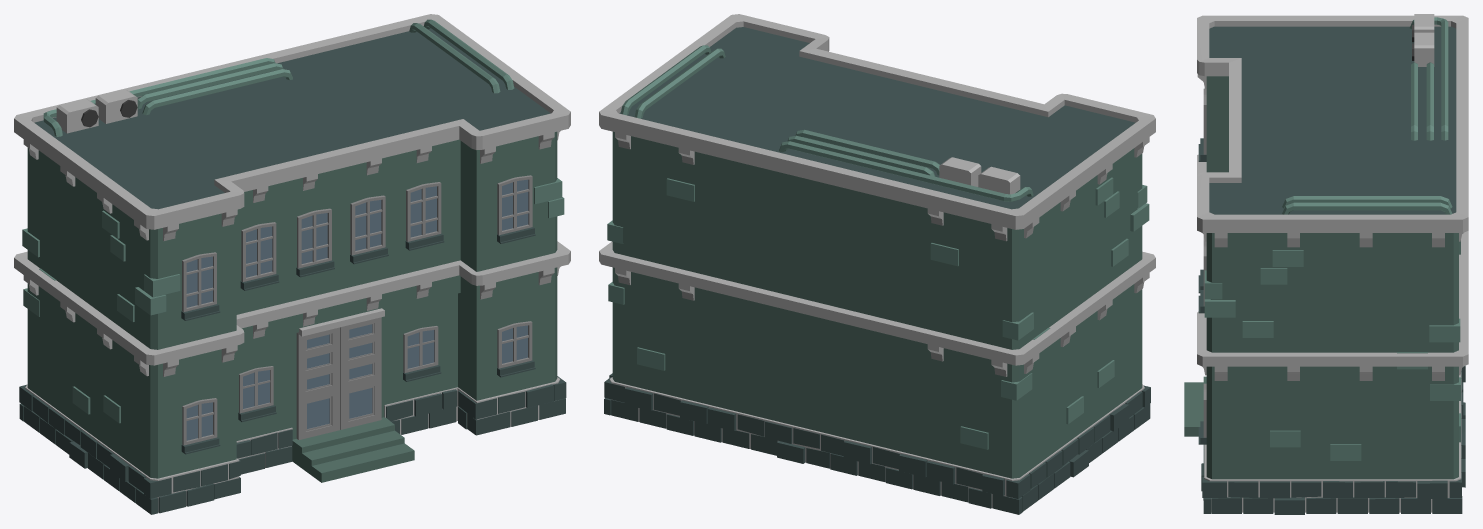
File: 2Story_Wide.obj
3 views of the same model, side by side, from view 1: azimuth 30°, elevation 25°; view 2: azimuth 150°, elevation 25°; view 3: azimuth 270°, elevation 25° (orthographic).
Bounding box in the file's own units: 3.83 × 2.75 × 2.26.
